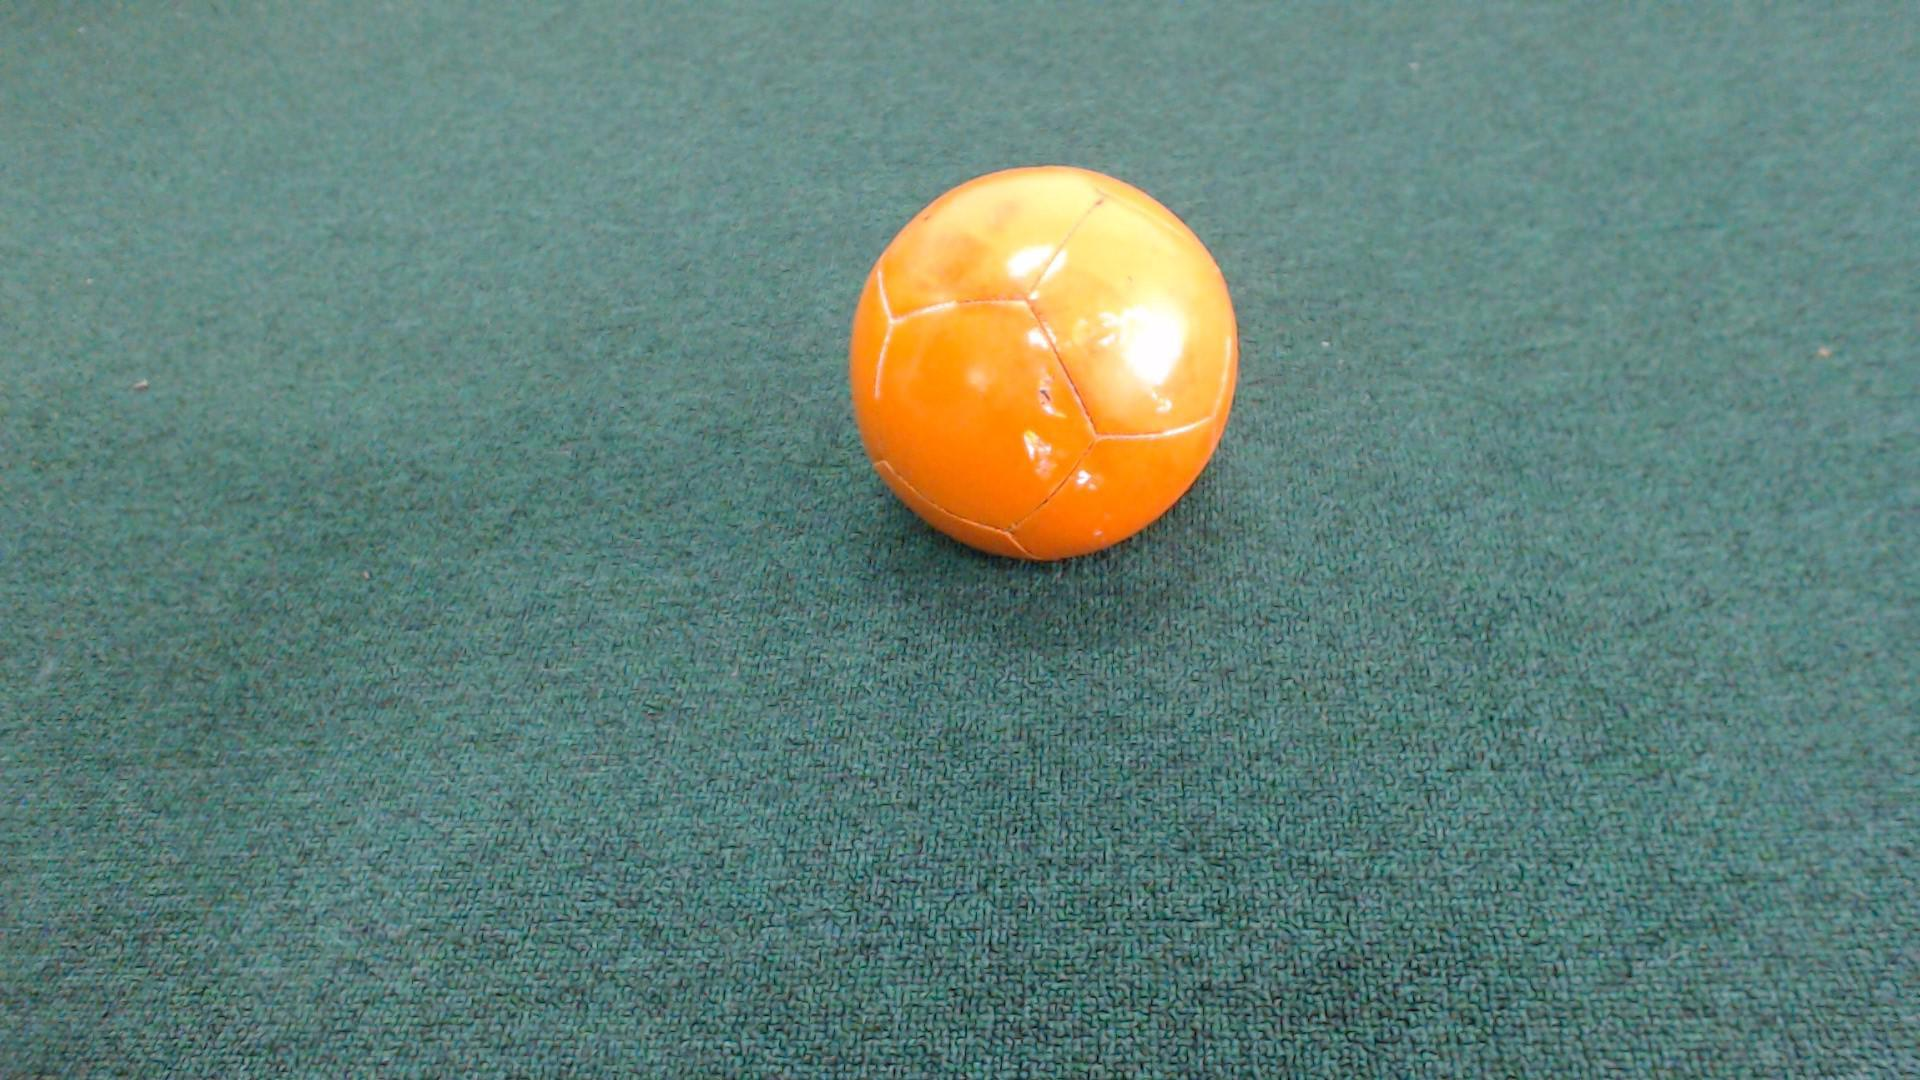bola: (819, 160, 1247, 603)
